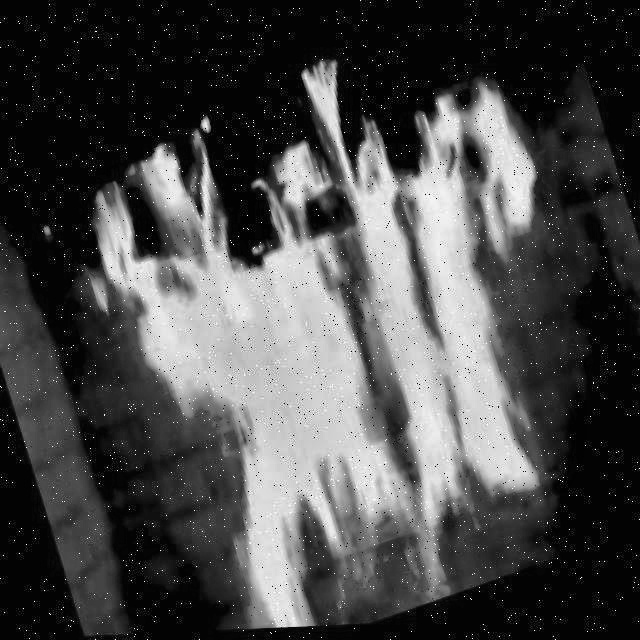Fire: (26, 0, 640, 639)
